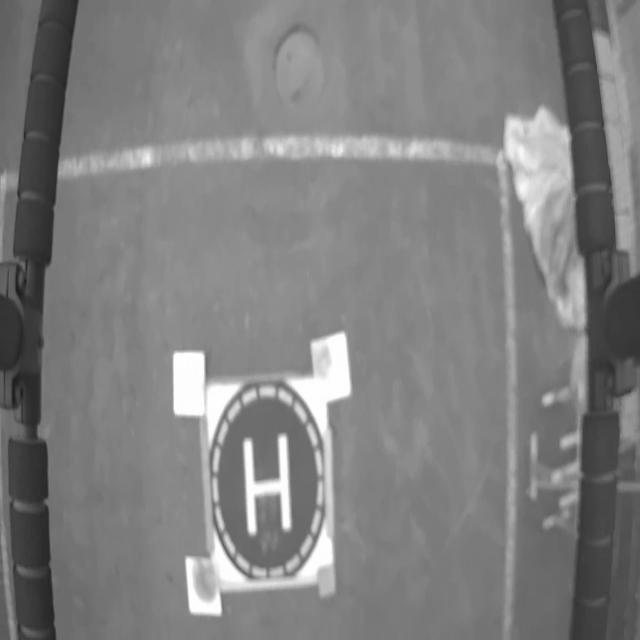Helipad: (242, 435, 292, 535)
